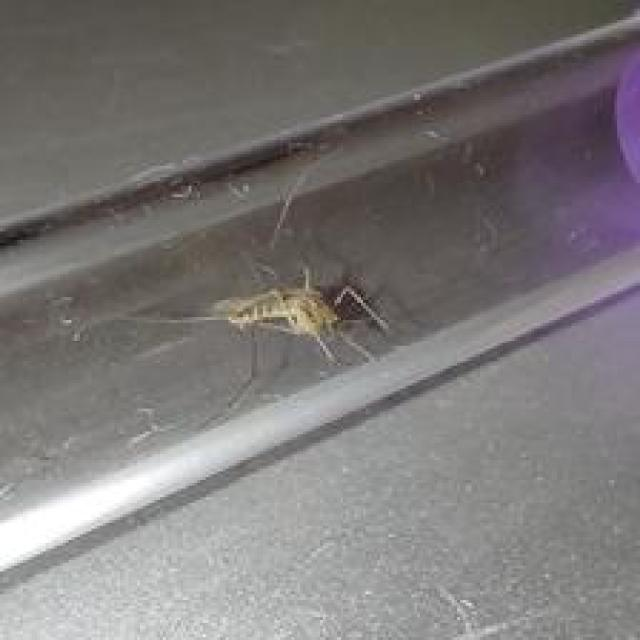Culex: (73, 260, 393, 386)
